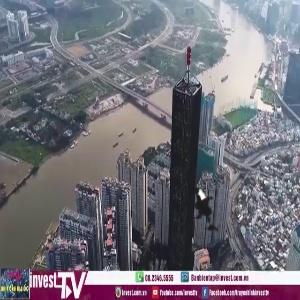drone: (171, 170, 250, 249)
